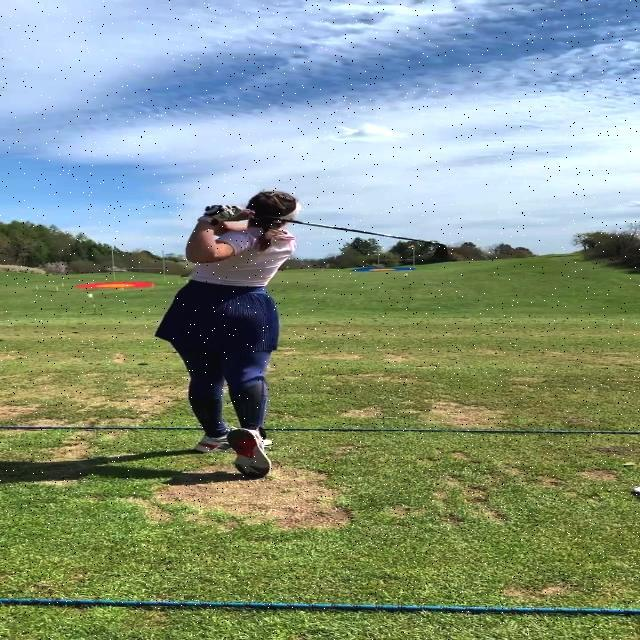golf club-handle: (252, 213, 449, 258)
golf club-head: (433, 243, 449, 258)
